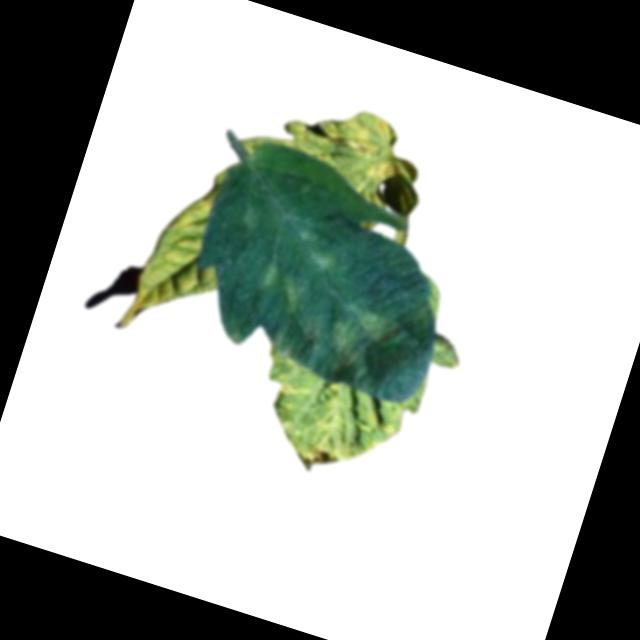Leaf_Mold: (126, 176, 245, 346), (255, 378, 404, 488), (316, 102, 418, 189), (320, 299, 416, 386)
